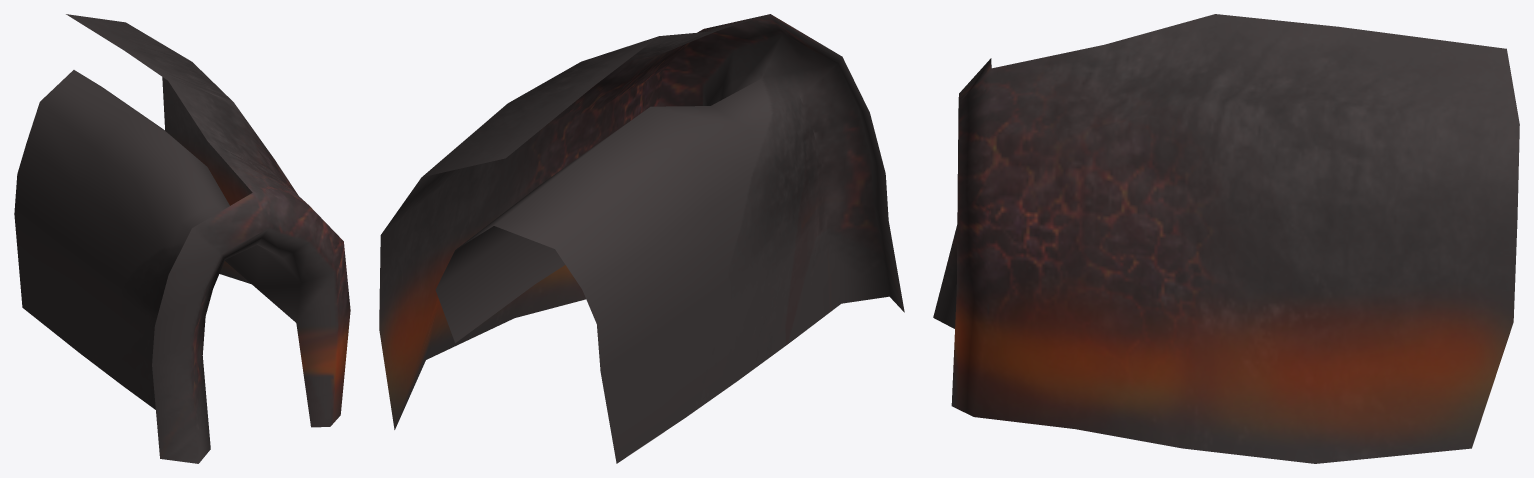
Rendered from final piece.fbx.
3 renders of one model, left to right at view 1: azimuth 30°, elevation 25°; view 2: azimuth 150°, elevation 25°; view 3: azimuth 270°, elevation 25°, orthographic. The views are drawn at different scales.
Visible parts, largest first — view 1: FinalPiece; view 2: FinalPiece; view 3: FinalPiece.
Part boxes in pixels (left/top/right/bottom): FinalPiece: left=14, top=14, right=350, bottom=463; FinalPiece: left=379, top=14, right=904, bottom=463; FinalPiece: left=933, top=14, right=1519, bottom=463.
Bounding box in the file's own units: 30.88 × 32.09 × 47.32.
